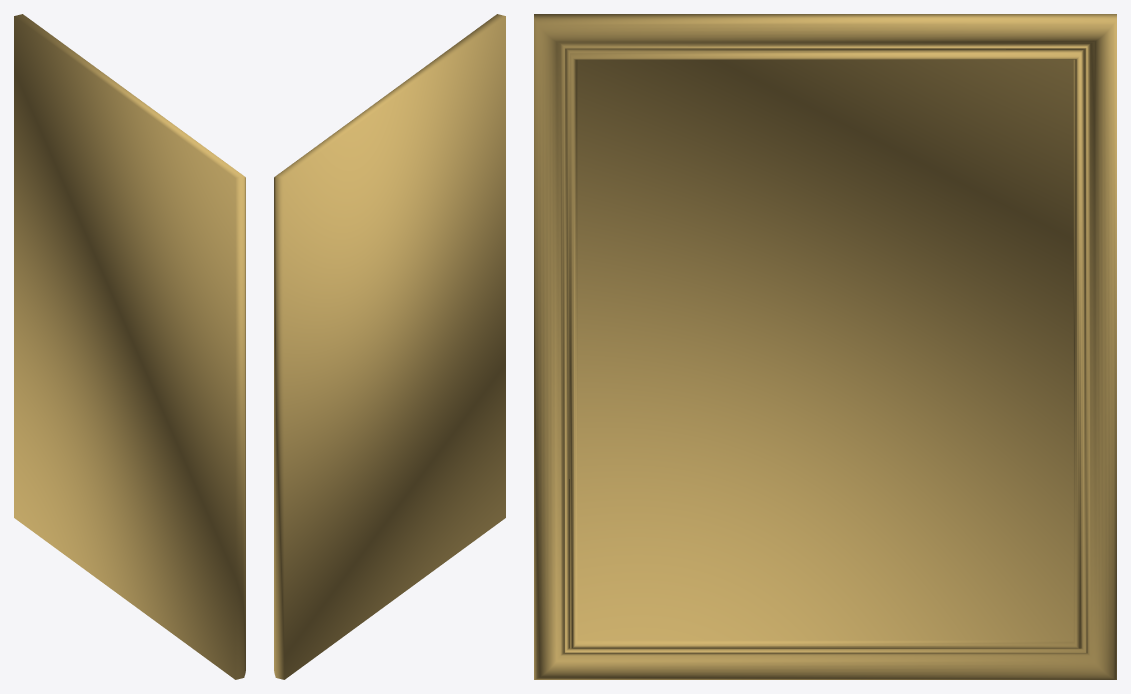
File: ramka.fbx
3 renders of one model, left to right at view 1: azimuth 30°, elevation 25°; view 2: azimuth 150°, elevation 25°; view 3: azimuth 270°, elevation 25°, orthographic. The views are drawn at different scales.
Parts seen in each view (by area): view 1: Plane.001; view 2: Plane.001; view 3: Plane.001.
Boxes of the visible parts, x1=… form: Plane.001: x1=14, y1=14, x2=245, y2=679; Plane.001: x1=274, y1=14, x2=505, y2=679; Plane.001: x1=534, y1=14, x2=1116, y2=679.
Size of the model in its own units: 7.44 by 250 by 200.
